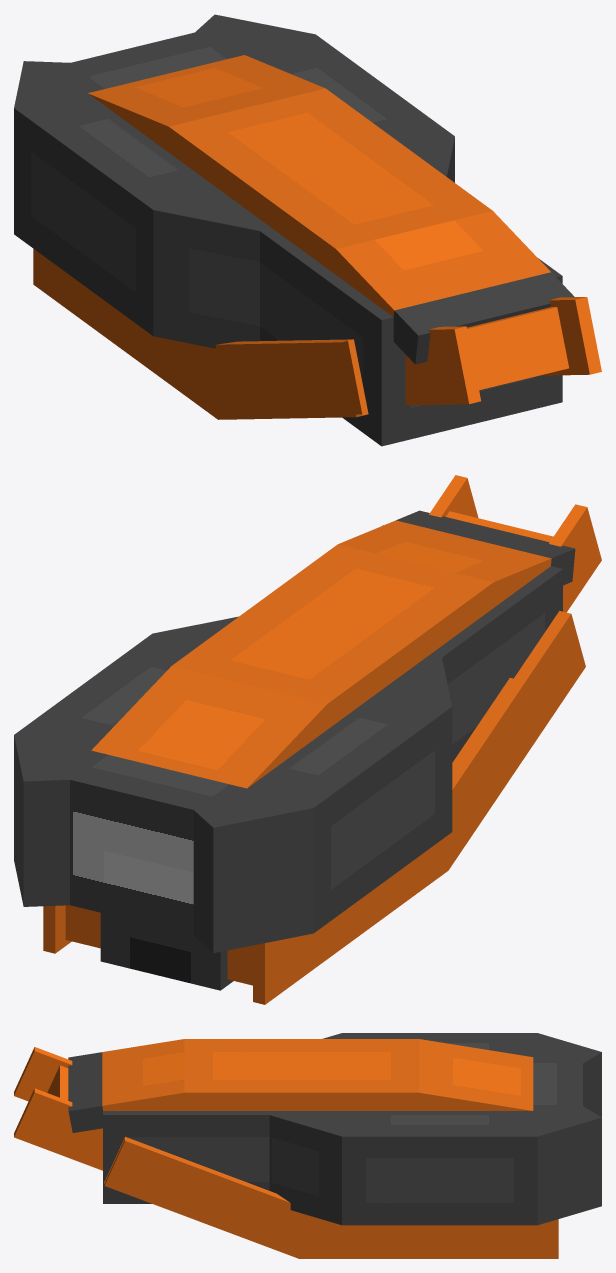
3 views of the same model, one above another, from view 1: azimuth 30°, elevation 25°; view 2: azimuth 150°, elevation 25°; view 3: azimuth 270°, elevation 25° (orthographic). The views are drawn at different scales.
Visible parts, largest first — view 1: cube (×16); view 2: cube (×19); view 3: cube (×15).
Boxes of the visible parts, x1,y1,x2,y2 form: cube (×16): (14,14,601,446); cube (×19): (14,475,601,1004); cube (×15): (14,1033,601,1258).
Size of the model in its own units: 0.3125 by 0.2194 by 0.7505.
1 material, 1 textured.
